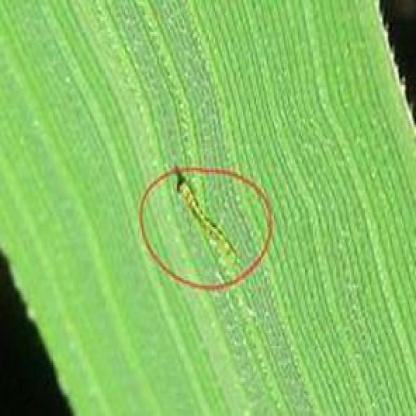leaf-folder: (169, 154, 246, 273)
